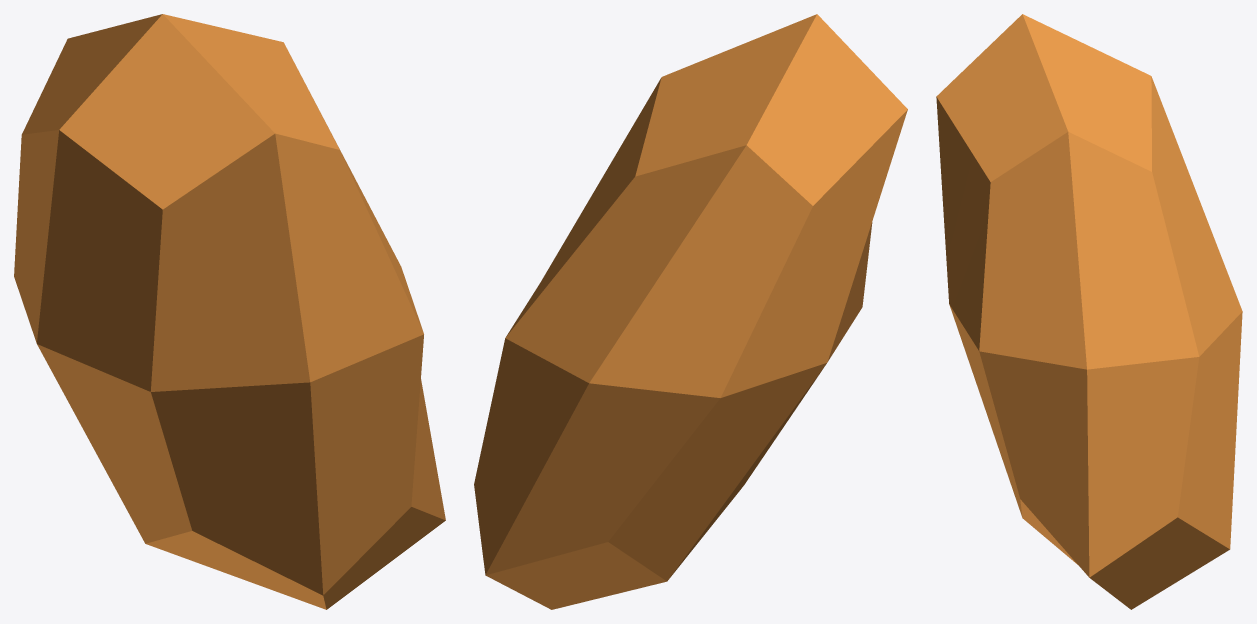
The model's file is SM_FloatingStone_C.fbx.
3 renders of one model, left to right at view 1: azimuth 30°, elevation 25°; view 2: azimuth 150°, elevation 25°; view 3: azimuth 270°, elevation 25°, orthographic. The views are drawn at different scales.
Visible parts, largest first — view 1: SM_FloatingStone_C; view 2: SM_FloatingStone_C; view 3: SM_FloatingStone_C.
Part boxes in pixels (x1,y1,x2,y2): SM_FloatingStone_C: (14, 14, 445, 609); SM_FloatingStone_C: (474, 14, 907, 609); SM_FloatingStone_C: (936, 14, 1242, 609).
Size of the model in its own units: 47.5 by 74.01 by 40.13.
